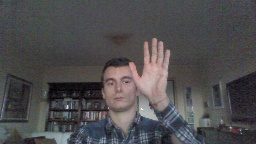Mano_aperta: (127, 37, 171, 100)
